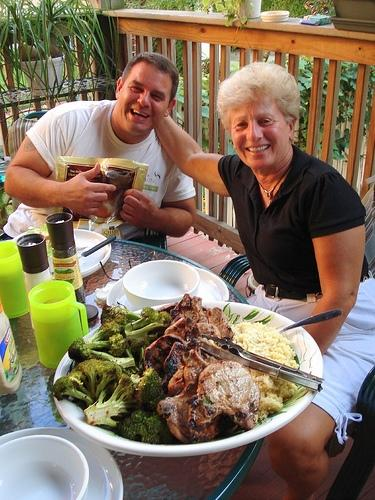broccoli: (53, 360, 122, 406), (83, 373, 139, 429), (116, 408, 174, 444), (124, 307, 172, 341), (135, 368, 166, 412), (68, 337, 116, 361), (86, 333, 128, 357), (100, 304, 145, 326)
